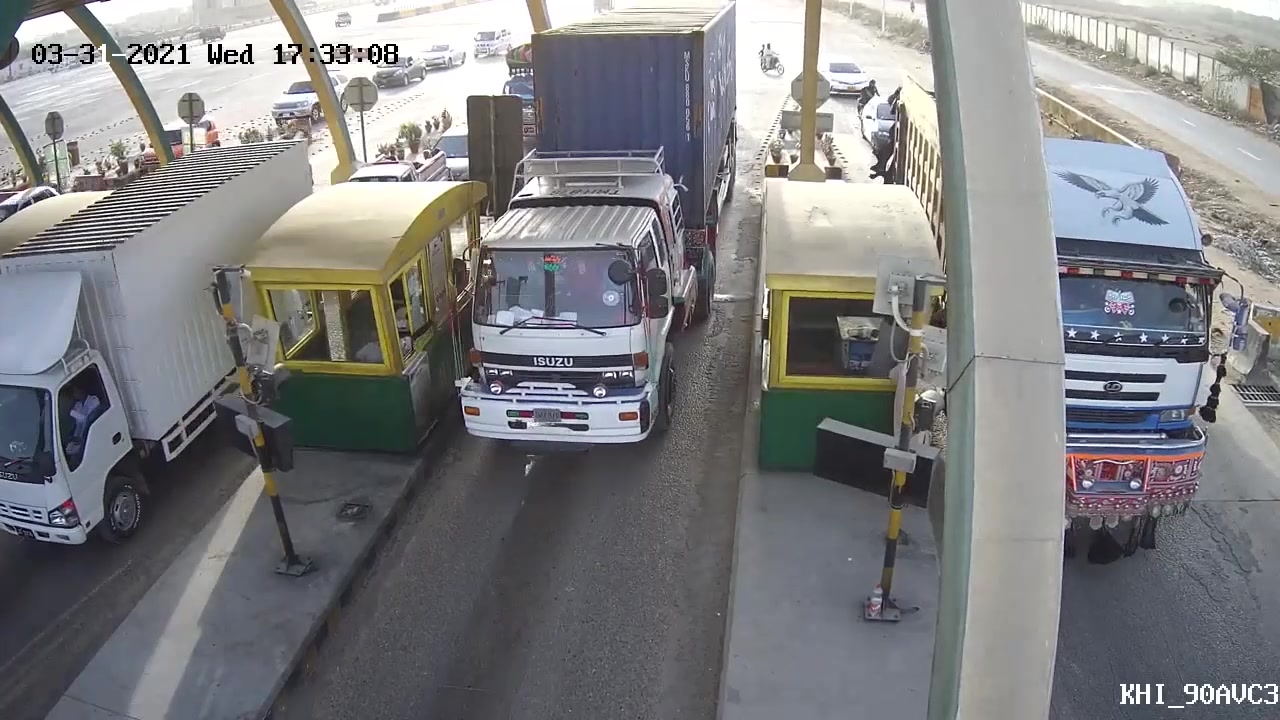F6: (452, 1, 743, 456)
